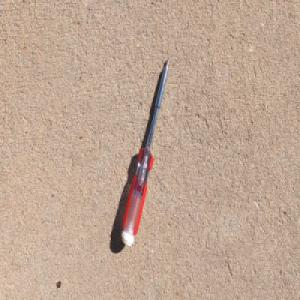Screwdriver: (119, 56, 170, 249)
